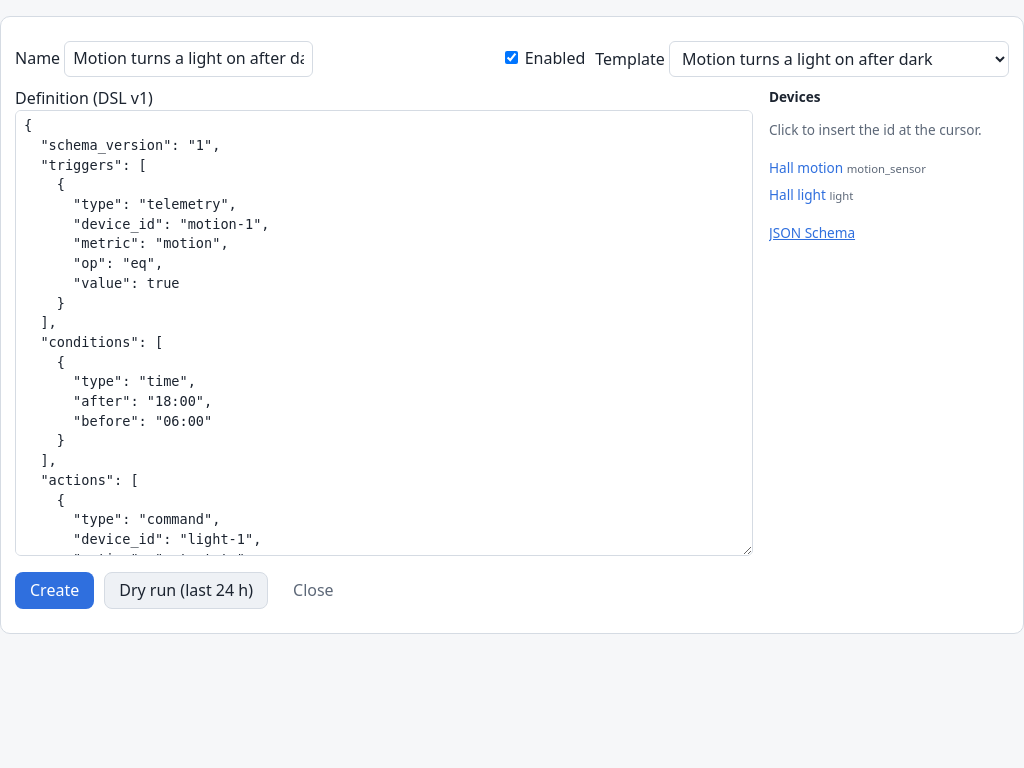
Test: AutomationEditor › refuses to send text that is not JSON
Replace the text in the text box labelled "Definition (DSL v1)" with "not json" at (384, 333), box [15,110,753,556]
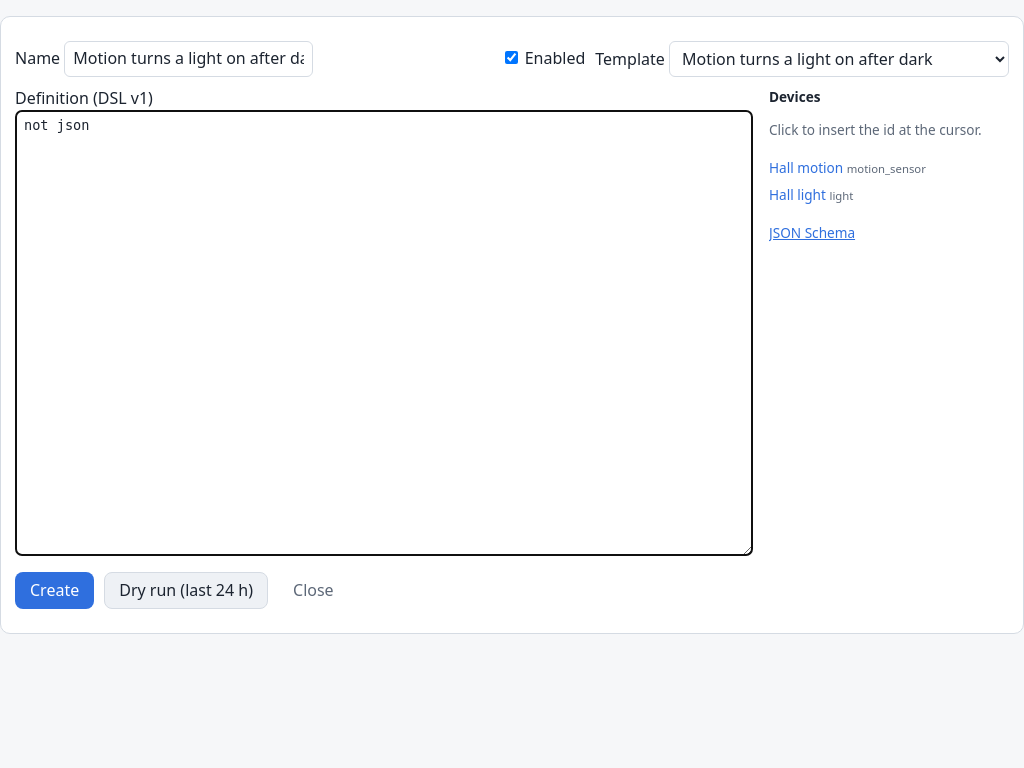
Click the button "Create" at (55, 590), box [15,572,94,609]
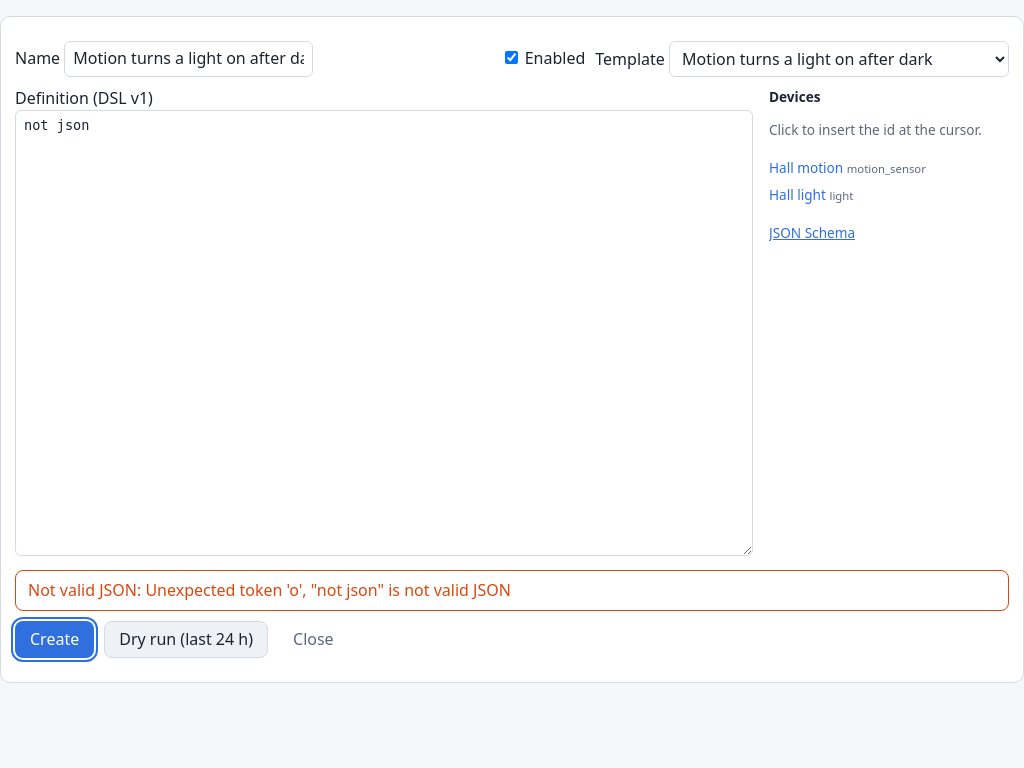
Expected: the message shows "Not valid JSON", [28,579,511,601]
